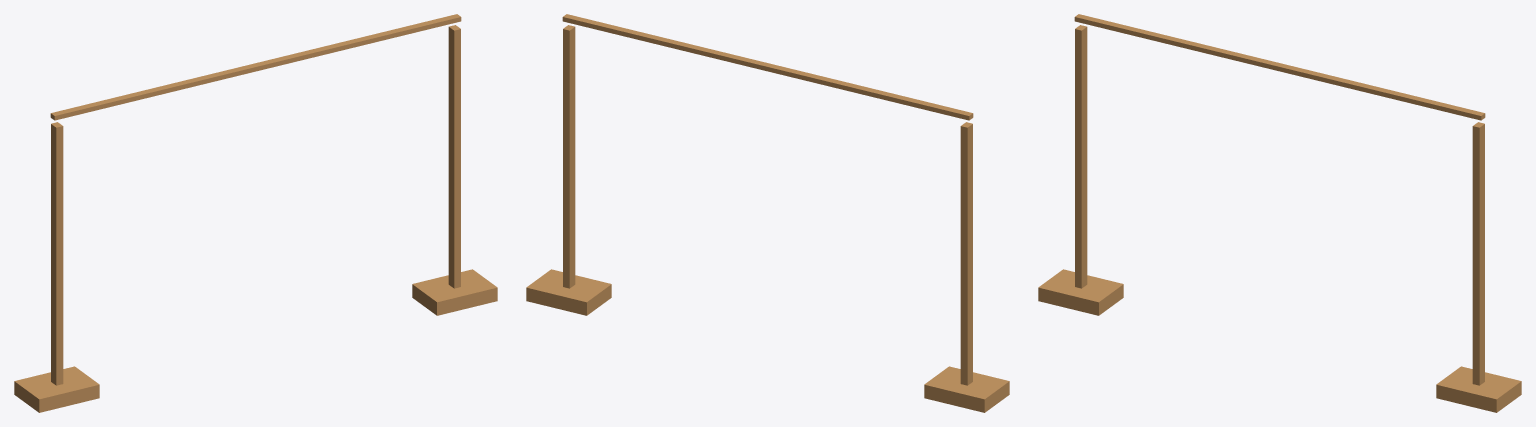
The model's file is hands-on-frame.glb.
The picture shows the model from 3 angles, left to right: view 1: azimuth 30°, elevation 25°; view 2: azimuth 150°, elevation 25°; view 3: azimuth 330°, elevation 25°; orthographic projection.
Visible parts, largest first — view 1: LMW_Screen_architecture; view 2: LMW_Screen_architecture; view 3: LMW_Screen_architecture.
Boxes of the visible parts, x1,y1,x2,y2 form: LMW_Screen_architecture: (14,14,497,412); LMW_Screen_architecture: (526,14,1009,412); LMW_Screen_architecture: (1038,14,1521,412).
Size of the model in its own units: 10.6 by 6.25 by 1.
